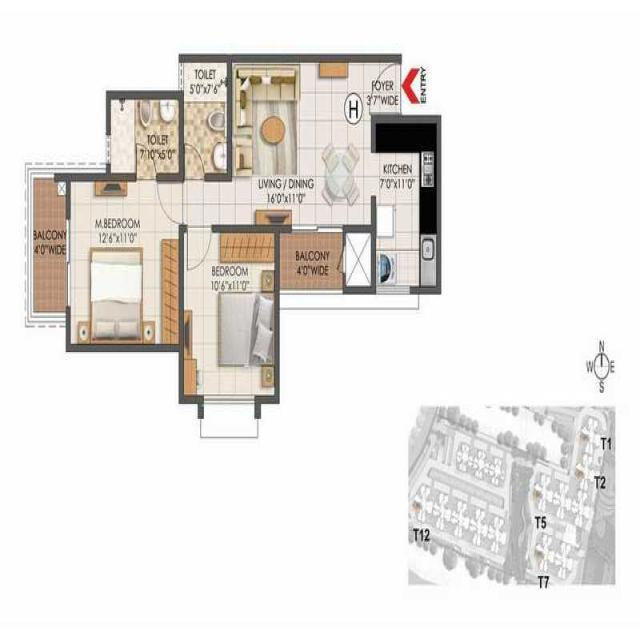Balcony-Sitout: (28, 174, 67, 324), (277, 231, 343, 293)
Bedroom: (181, 230, 279, 403)
Bedroom with Toilet: (67, 176, 181, 351)
Dining: (316, 138, 363, 211)
Enterance-Foyer: (372, 55, 429, 116)
Kitchen: (372, 117, 440, 293)
Living: (229, 55, 300, 229)
Toilet: (107, 93, 181, 175), (182, 58, 229, 175)
